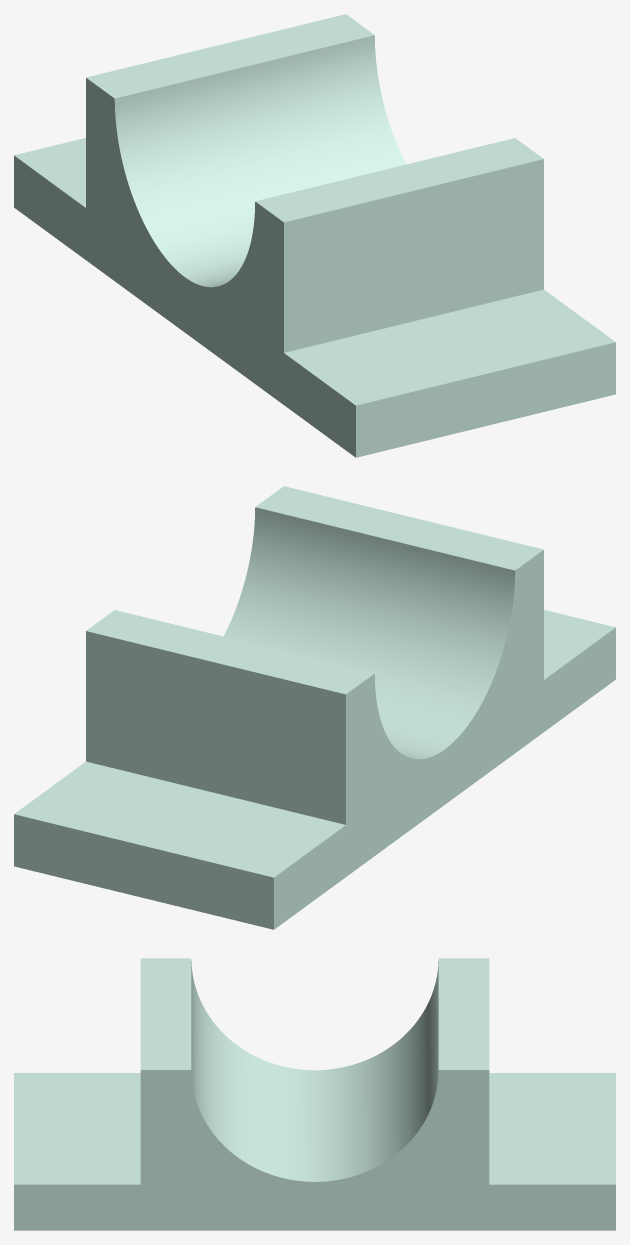
3 views of the same model, one above another, from view 1: azimuth 30°, elevation 25°; view 2: azimuth 150°, elevation 25°; view 3: azimuth 270°, elevation 25° (orthographic). The views are drawn at different scales.
Visible parts, largest first — view 1: Renderer Node; view 2: Renderer Node; view 3: Renderer Node.
Part boxes in pixels (box(x1,y1,x2,y2)): Renderer Node: box(14, 14, 615, 457); Renderer Node: box(14, 486, 615, 929); Renderer Node: box(14, 958, 615, 1230).
Size of the model in its own units: 0.5625 by 0.3776 by 1.28.
